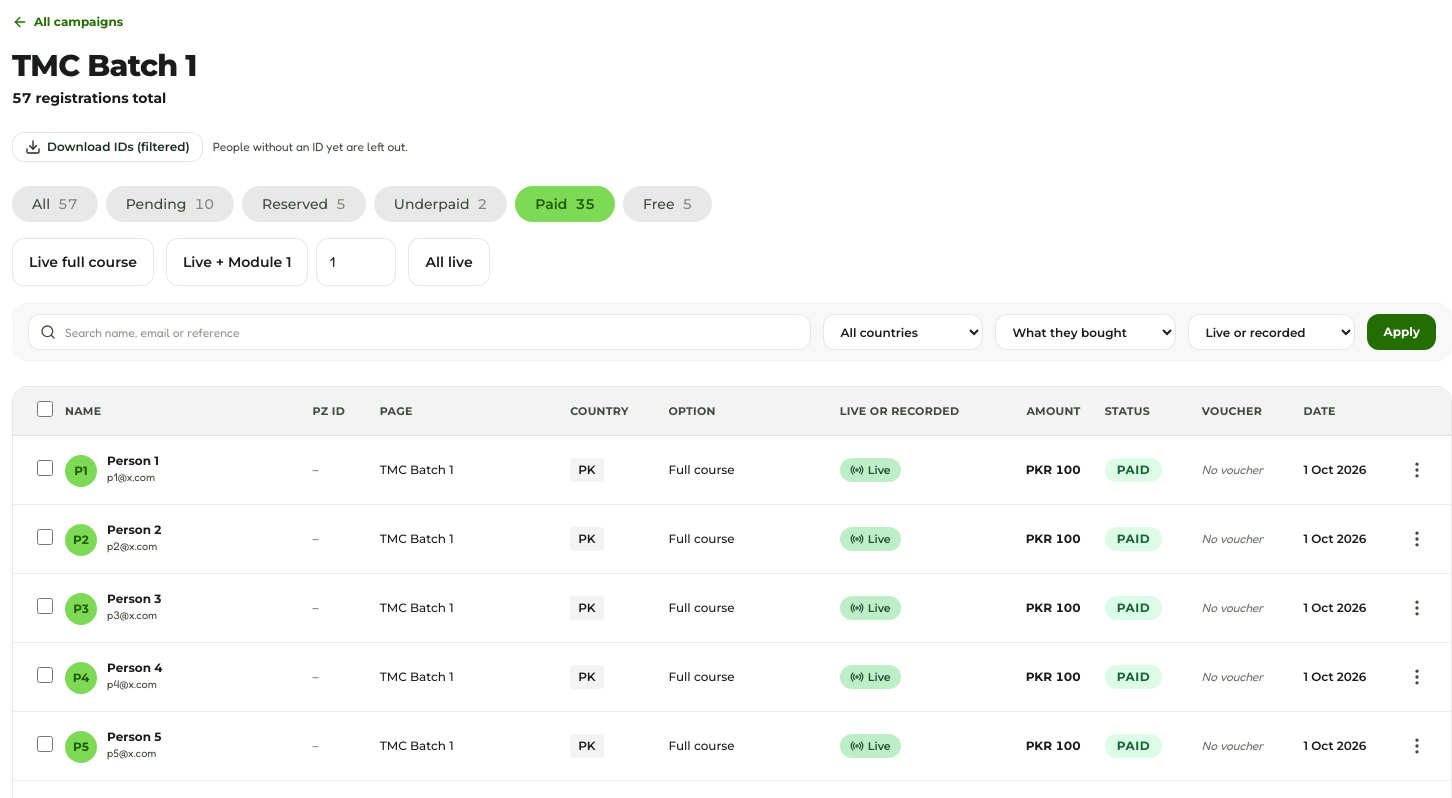
campaign page › shows no send bar until something is ticked
The width and height of the screenshot is (1452, 798).
Expected: the button "Send email" is not shown
Click the checkbox named "Select Person 1" at (45, 468), box [37,460,53,476]
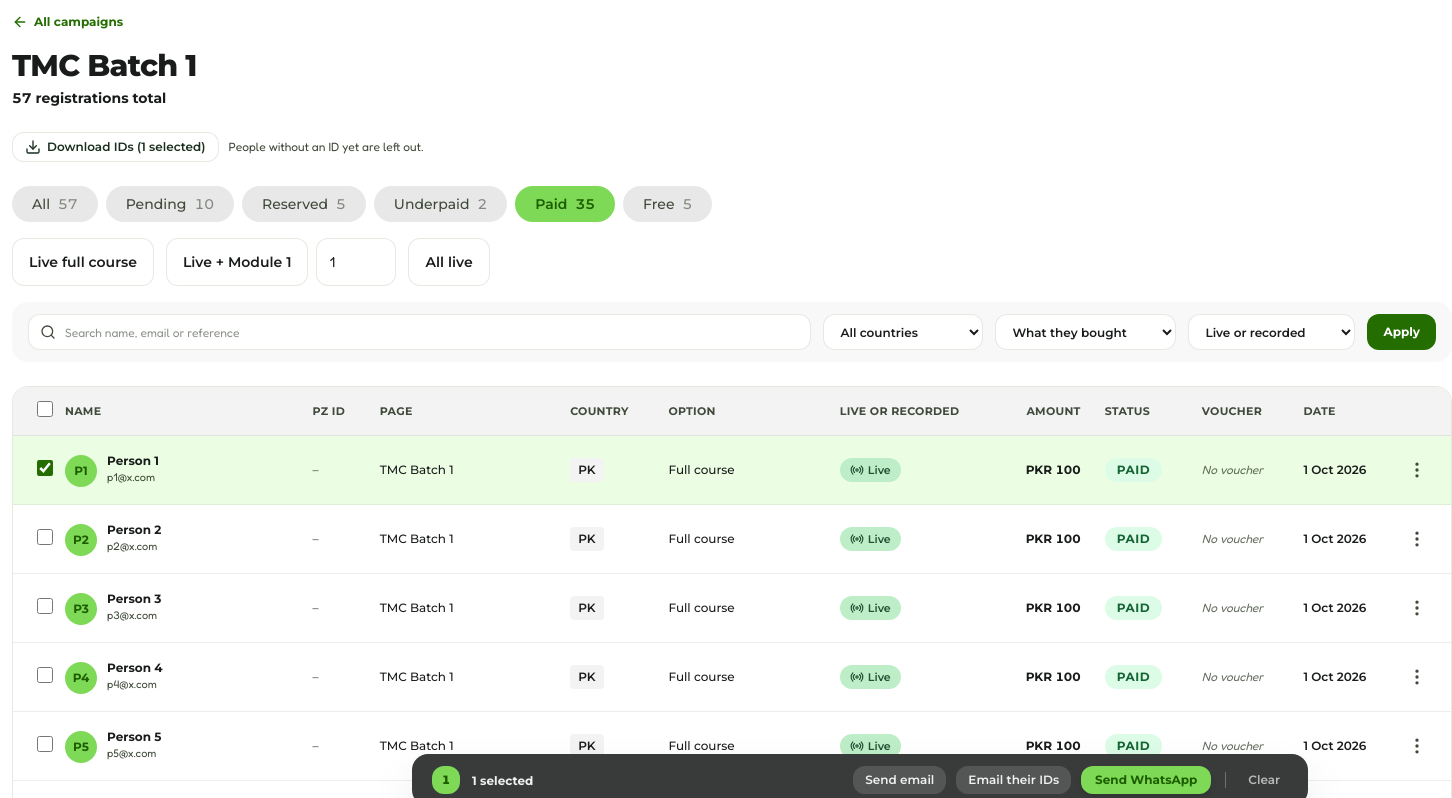
Expected: the text "1 selected" is shown, [472,772,533,788]
Expected: the button "Send email" is shown, [853,766,946,794]
Expected: the button "Send WhatsApp" is shown, [1081,766,1211,794]
Click the button "Clear" at (1264, 780), box [1240,768,1288,792]
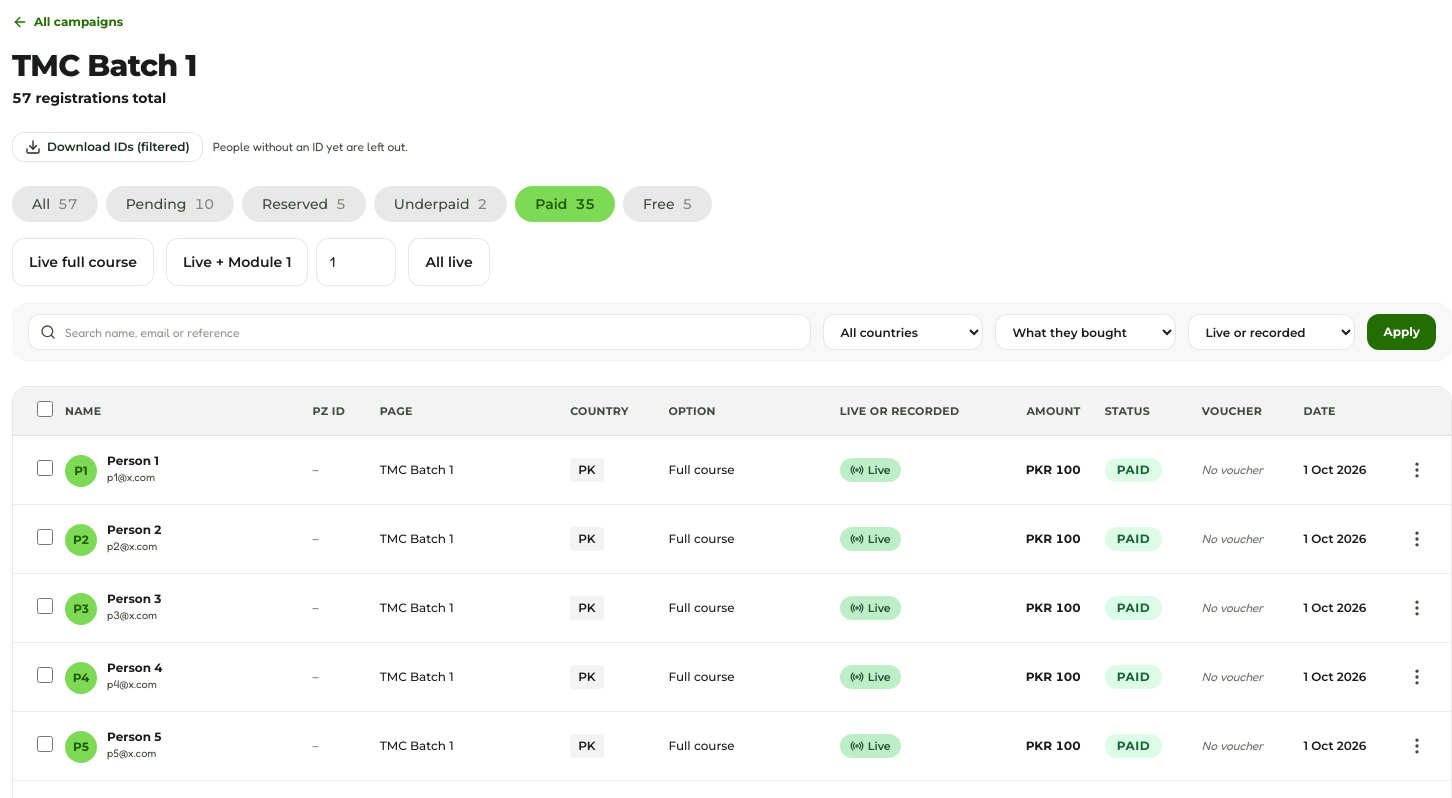
Expected: the button "Send email" is gone
